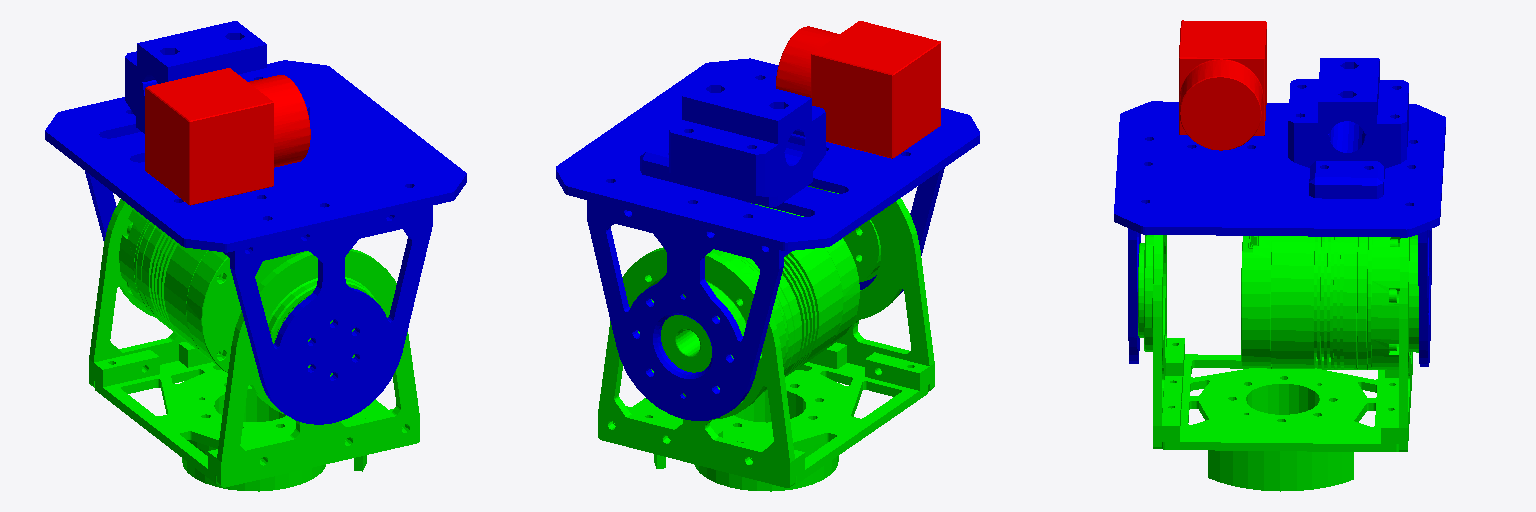
URDF robot description (ladar_urdf):
<?xml version="1.0" encoding="utf-8"?>
<!-- This URDF was automatically created by SolidWorks to URDF Exporter! Originally created by Stephen Brawner (brawner@gmail.com) 
     Commit Version: 1.6.0-4-g7f85cfe  Build Version: 1.6.7995.38578
     For more information, please see http://wiki.ros.org/sw_urdf_exporter -->
<robot
  name="ladar_urdf">
  <link
    name="ladar_link">
    <inertial>
      <origin
        xyz="0.042047 -0.043466 -0.01854"
        rpy="0 0 0" />
      <mass
        value="4.0376" />
      <inertia
        ixx="0.010633"
        ixy="-7.3217E-06"
        ixz="1.3869E-05"
        iyy="0.0092128"
        iyz="9.0167E-09"
        izz="0.011728" />
    </inertial>
    <visual>
      <origin
        xyz="0 0 0"
        rpy="0 0 0" />
      <geometry>
        <mesh
          filename="package://ladar_urdf/meshes/ladar_link.STL" />
      </geometry>
      <material
        name="">
        <color
          rgba="1 0 0 1" />
      </material>
    </visual>
    <collision>
      <origin
        xyz="0 0 0"
        rpy="0 0 0" />
      <geometry>
        <mesh
          filename="package://ladar_urdf/meshes/ladar_link.STL" />
      </geometry>
    </collision>
  </link>
  <link
    name="yaw_link">
    <inertial>
      <origin
        xyz="0.0016044 0.0031523 0.018452"
        rpy="0 0 0" />
      <mass
        value="0.2317" />
      <inertia
        ixx="7.2873E-05"
        ixy="7.5563E-07"
        ixz="1.2621E-07"
        iyy="9.9156E-05"
        iyz="7.5853E-08"
        izz="9.518E-05" />
    </inertial>
    <visual>
      <origin
        xyz="0 0 0"
        rpy="0 0 0" />
      <geometry>
        <mesh
          filename="package://ladar_urdf/meshes/yaw_link.STL" />
      </geometry>
      <material
        name="">
        <color
          rgba="0 1 0 1" />
      </material>
    </visual>
    <collision>
      <origin
        xyz="0 0 0"
        rpy="0 0 0" />
      <geometry>
        <mesh
          filename="package://ladar_urdf/meshes/yaw_link.STL" />
      </geometry>
    </collision>
  </link>
  <joint
    name="yaw_joint"
    type="revolute">
    <origin
      xyz="-0.052305 -0.2425 -0.0392"
      rpy="0 0 0" />
    <parent
      link="ladar_link" />
    <child
      link="yaw_link" />
    <axis
      xyz="0 0 -1" />
    <limit
      lower="0"
      upper="0"
      effort="0"
      velocity="0" />
  </joint>
  <link
    name="pitch_link">
    <inertial>
      <origin
        xyz="-0.0010918 0.037956 0.044776"
        rpy="0 0 0" />
      <mass
        value="0.14221" />
      <inertia
        ixx="8.2702E-05"
        ixy="2.1125E-07"
        ixz="9.0946E-07"
        iyy="0.00013327"
        iyz="1.3043E-09"
        izz="8.6989E-05" />
    </inertial>
    <visual>
      <origin
        xyz="0 0 0"
        rpy="0 0 0" />
      <geometry>
        <mesh
          filename="package://ladar_urdf/meshes/pitch_link.STL" />
      </geometry>
      <material
        name="">
        <color
          rgba="0 0 1 1" />
      </material>
    </visual>
    <collision>
      <origin
        xyz="0 0 0"
        rpy="0 0 0" />
      <geometry>
        <mesh
          filename="package://ladar_urdf/meshes/pitch_link.STL" />
      </geometry>
    </collision>
  </link>
  <joint
    name="pitch_joint"
    type="revolute">
    <origin
      xyz="0.0012215 0.047484 0.04"
      rpy="1.5708 0 -0.025717" />
    <parent
      link="yaw_link" />
    <child
      link="pitch_link" />
    <axis
      xyz="0 0 1" />
    <limit
      lower="-3.14"
      upper="3.14"
      effort="0"
      velocity="0" />
  </joint>
  <link
    name="camera_link">
    <inertial>
      <origin
        xyz="0.0052262 -9.0412E-12 1.4677E-05"
        rpy="0 0 0" />
      <mass
        value="0.033212" />
      <inertia
        ixx="4.2973E-06"
        ixy="1.7602E-21"
        ixz="1.1025E-10"
        iyy="6.9988E-06"
        iyz="8.5612E-22"
        izz="7.0028E-06" />
    </inertial>
    <visual>
      <origin
        xyz="0 0 0"
        rpy="0 0 0" />
      <geometry>
        <mesh
          filename="package://ladar_urdf/meshes/camera_link.STL" />
      </geometry>
      <material
        name="">
        <color
          rgba="1 0 0 1" />
      </material>
    </visual>
    <collision>
      <origin
        xyz="0 0 0"
        rpy="0 0 0" />
      <geometry>
        <mesh
          filename="package://ladar_urdf/meshes/camera_link.STL" />
      </geometry>
    </collision>
  </link>
  <joint
    name="camera_joint"
    type="fixed">
    <origin
      xyz="-0.0272 0.0665 0.0685"
      rpy="-1.5708 0 0" />
    <parent
      link="pitch_link" />
    <child
      link="camera_link" />
    <axis
      xyz="0 0 0" />
  </joint>
</robot>

--- Render facts (derived) ---
3 views of the same robot in one strip: view 1: azimuth 30°, elevation 25°; view 2: azimuth 150°, elevation 25°; view 3: azimuth 270°, elevation 25° (orthographic).
Model ladar_urdf with 4 links and 3 joints (2 revolute, 1 fixed), rooted at ladar_link, posed all joints at 0.
Visible links, largest first — view 1: pitch_link, yaw_link, camera_link; view 2: pitch_link, yaw_link, camera_link; view 3: yaw_link, pitch_link, camera_link.
Link boxes in pixels (x1=…): pitch_link: x1=45, y1=21, x2=466, y2=424; yaw_link: x1=89, y1=199, x2=419, y2=491; camera_link: x1=145, y1=68, x2=310, y2=205; pitch_link: x1=556, y1=58, x2=979, y2=420; yaw_link: x1=598, y1=186, x2=934, y2=491; camera_link: x1=776, y1=21, x2=940, y2=158; yaw_link: x1=1138, y1=235, x2=1418, y2=491; pitch_link: x1=1114, y1=58, x2=1445, y2=366; camera_link: x1=1179, y1=20, x2=1266, y2=150.
Bounding box of the posed robot: 0.1022 × 0.112 × 0.14 m (x, y, z).
Meshes: 4 distinct files referenced, 3 mesh visuals loaded (3 binary STL); not drawn: 1 (reference not matched to a file when rendering).
